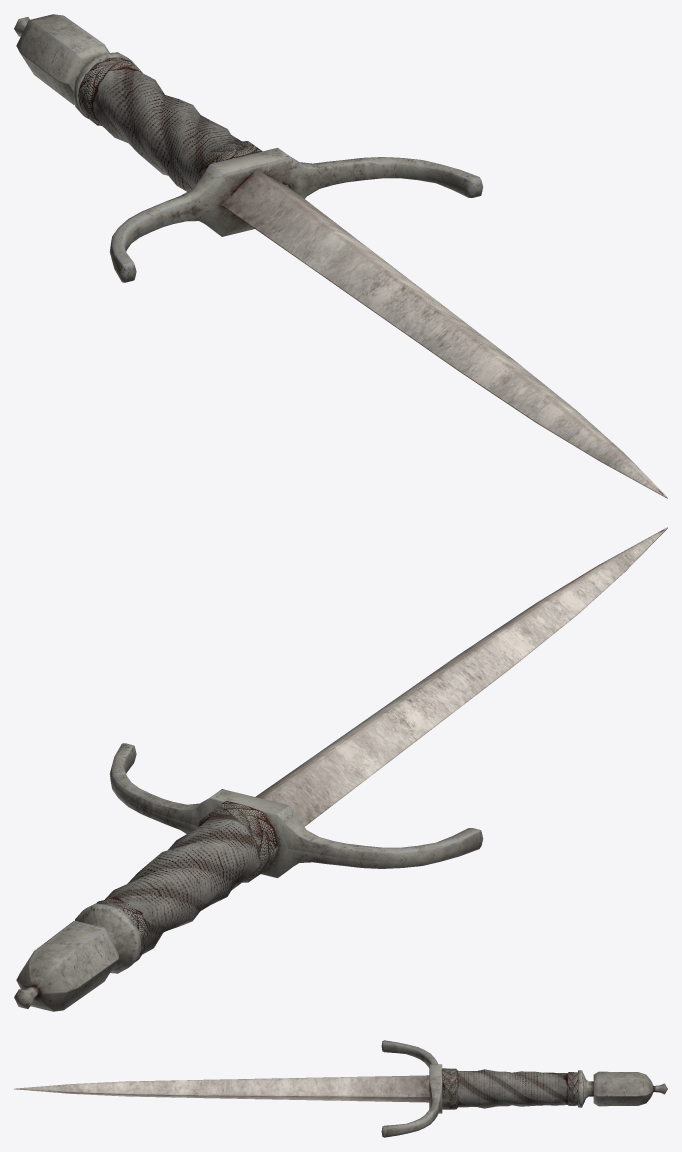
Rendered from parryingdagger.fbx.
3 renders of one model, top to bottom at view 1: azimuth 30°, elevation 25°; view 2: azimuth 150°, elevation 25°; view 3: azimuth 270°, elevation 25°, orthographic. The views are drawn at different scales.
Visible parts, largest first — view 1: WP_A_0102; view 2: WP_A_0102; view 3: WP_A_0102.
Part boxes in pixels (x1,y1,x2,y2): WP_A_0102: (14,14,667,498); WP_A_0102: (14,527,667,1011); WP_A_0102: (14,1040,667,1137).
Size of the model in its own units: 19.06 by 3.47 by 59.01.
1 material, 1 textured.
